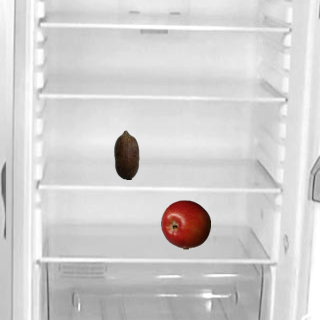Apple Braeburn: (160, 199, 210, 249)
Nut Pecan: (101, 129, 151, 179)
